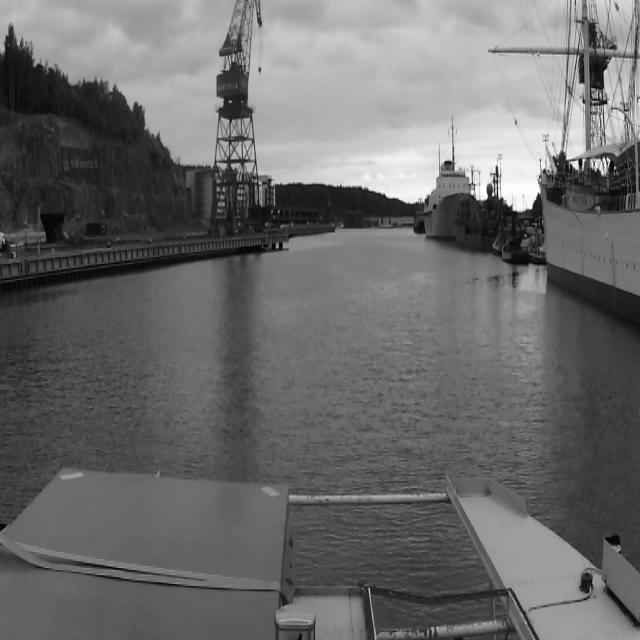ship: (484, 18, 634, 326), (448, 168, 522, 245), (426, 160, 482, 241), (534, 216, 588, 290), (455, 197, 489, 250), (502, 239, 530, 266), (493, 227, 505, 254)
